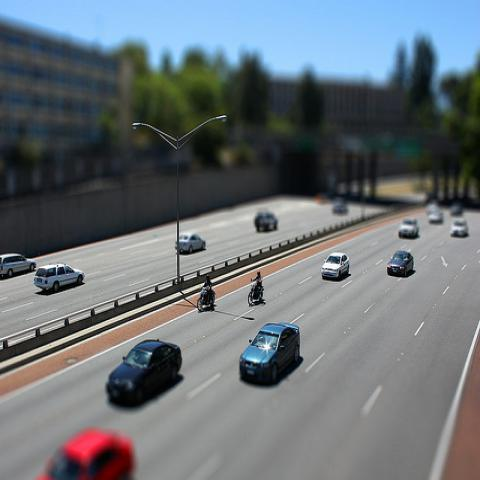car: (33, 425, 137, 479), (106, 336, 182, 406), (240, 323, 301, 387), (33, 262, 85, 295), (0, 252, 38, 279), (321, 250, 351, 282), (175, 233, 207, 255), (387, 251, 413, 277), (398, 218, 420, 238), (450, 216, 469, 237), (255, 214, 276, 233), (429, 212, 444, 224), (332, 206, 348, 216)
motorcycle: (196, 284, 216, 313), (248, 283, 266, 307)
